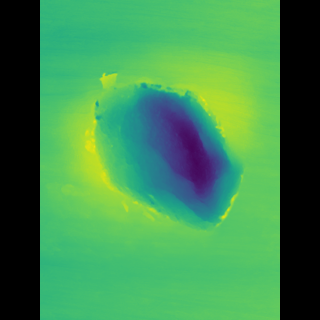Loch: (77, 65, 227, 238)
